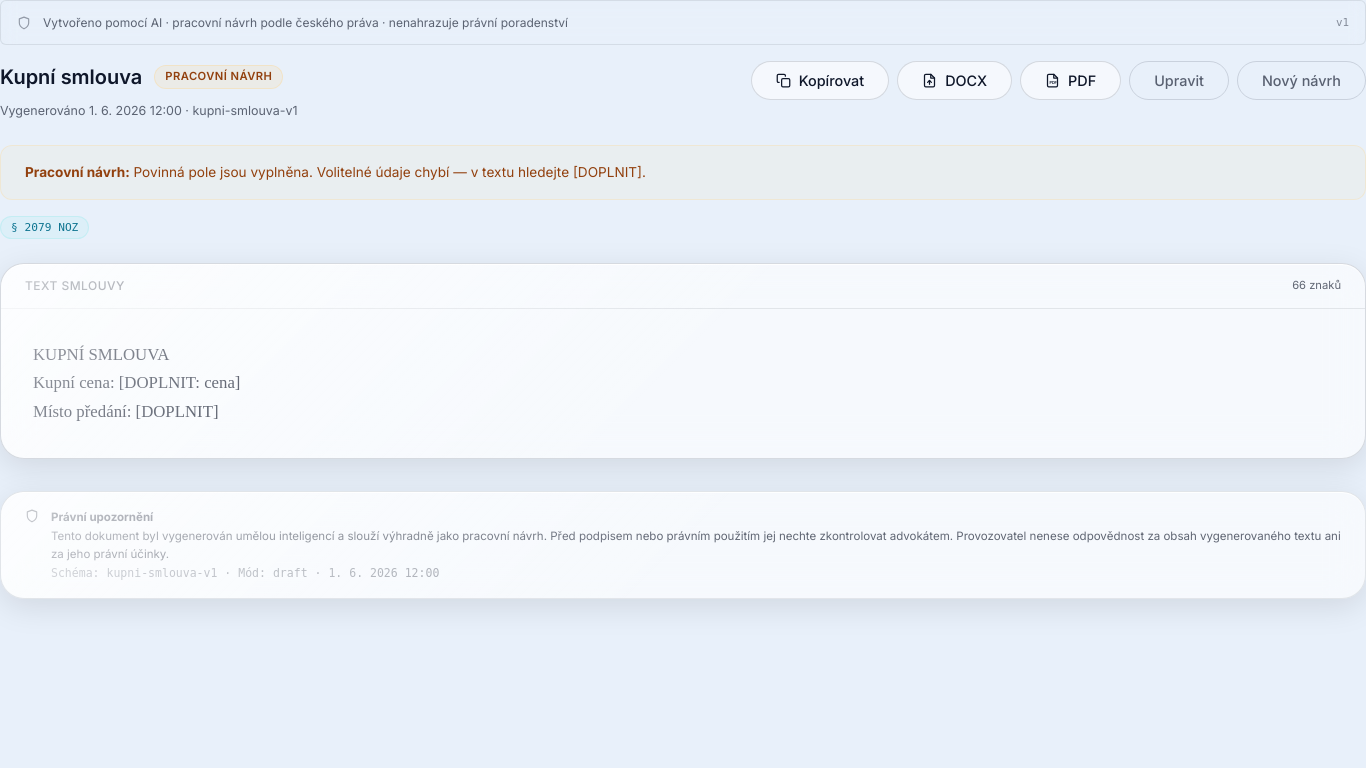
Test: ContractResult — pre-export gate › "Exportovat i tak" proceeds with the original export
Click the button "DOCX" at (955, 81), box [897,61,1012,100]
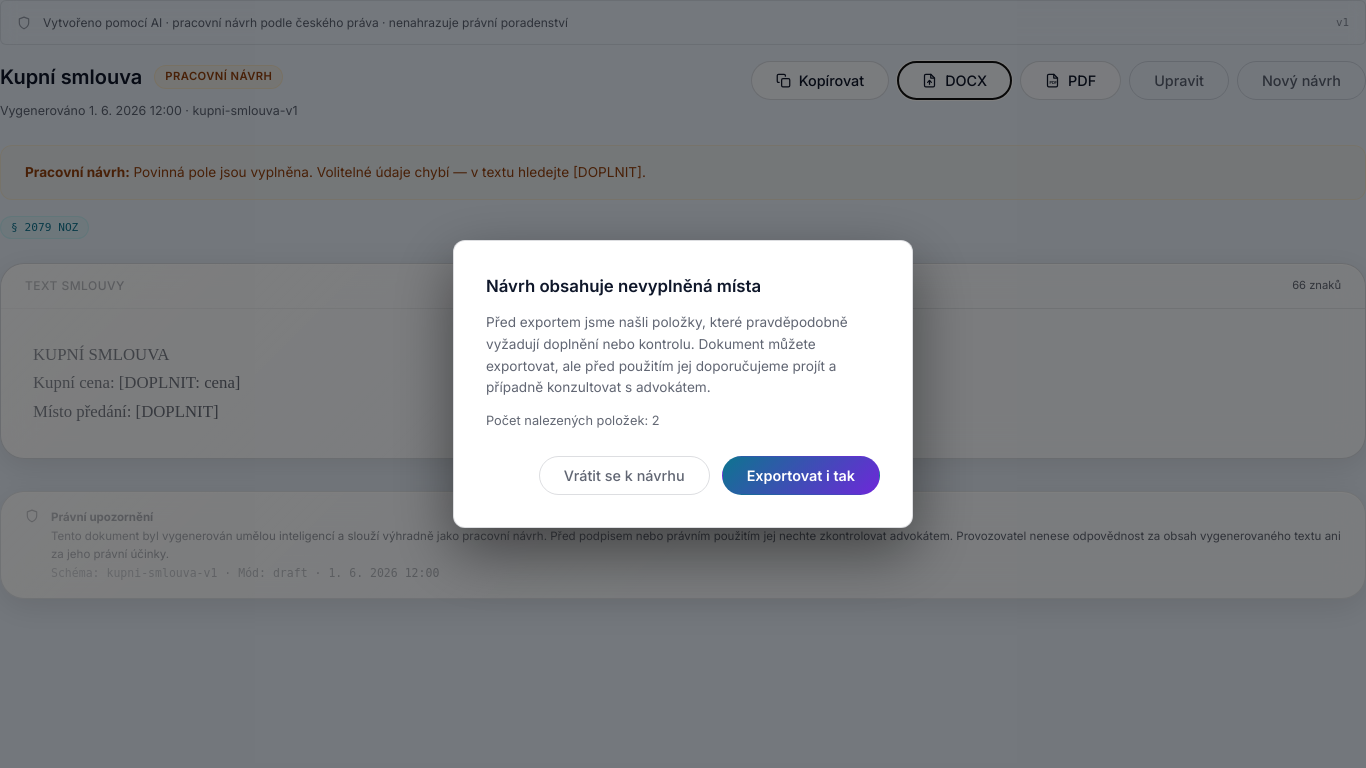
Click the button "Exportovat i tak" at (801, 475), box [722,456,880,495]
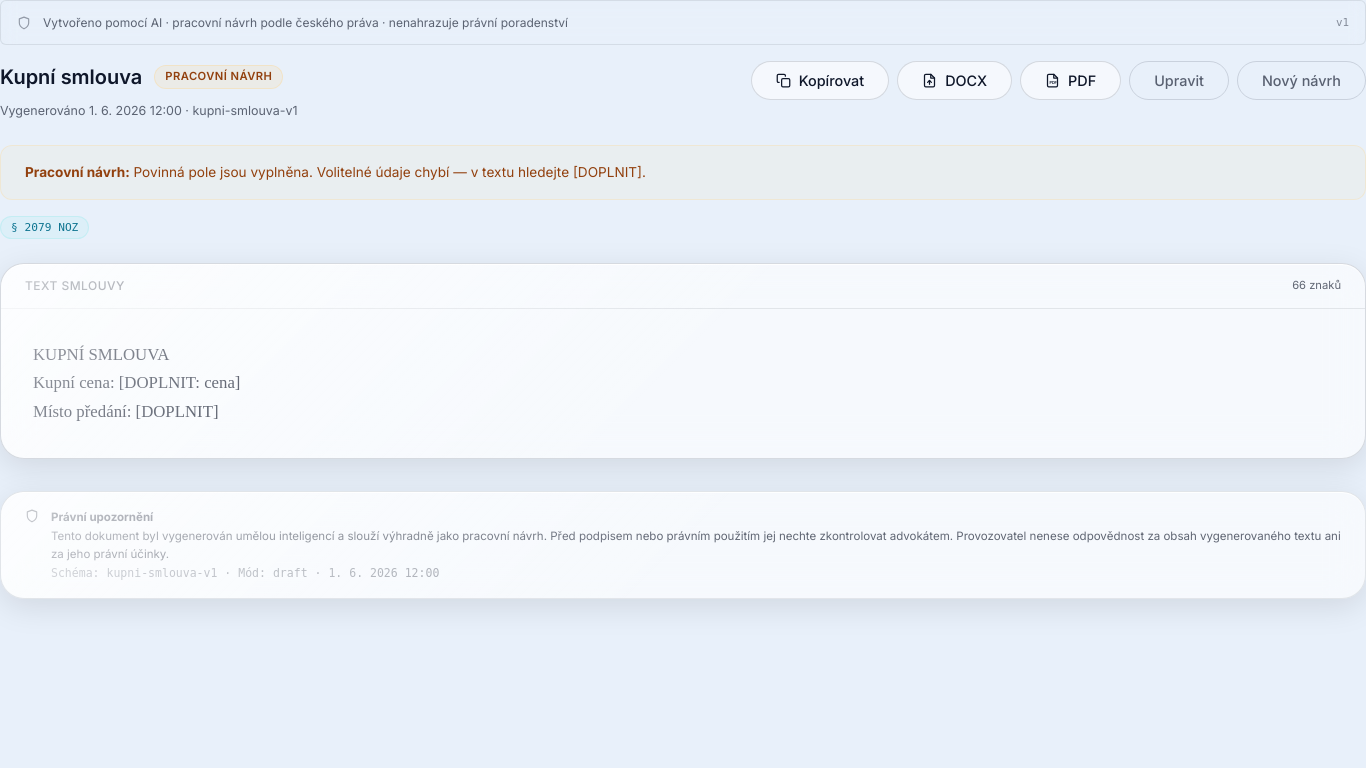
Result: the heading "Návrh obsahuje nevyplněná místa" is gone
